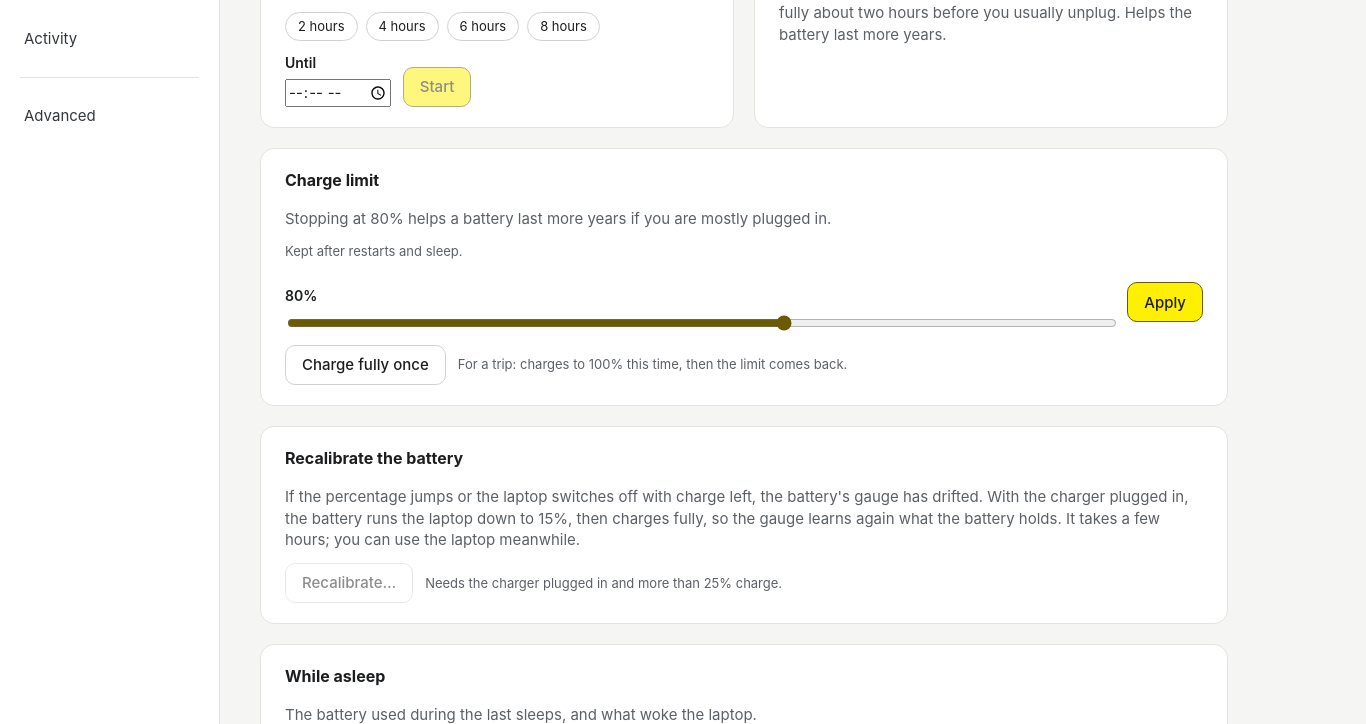
Scenario: the app with the stand-in backend › charges fully once, then puts the limit back
The image size is (1366, 724).
(page scrolled)
What coordinates should you click on to do the following:
click the button "Charge fully once"
I would click on:
 (365, 365)
Its box is [285, 345, 446, 385].
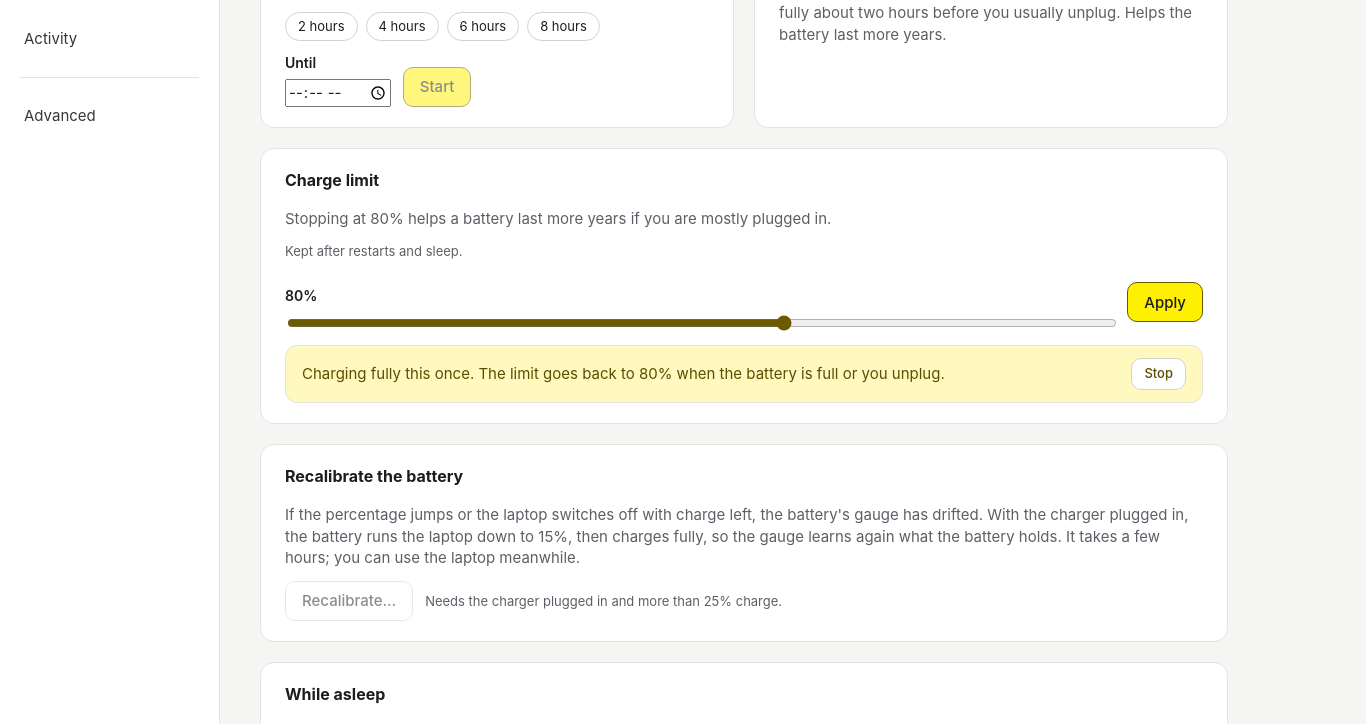
Expected: the text "Charging fully this once. The limit goes back to 80%" is shown, [302, 364, 945, 383]
What coordinates should you click on to do the following:
click the button "Stop"
I would click on:
 (1159, 374)
Its box is [1131, 358, 1186, 390].
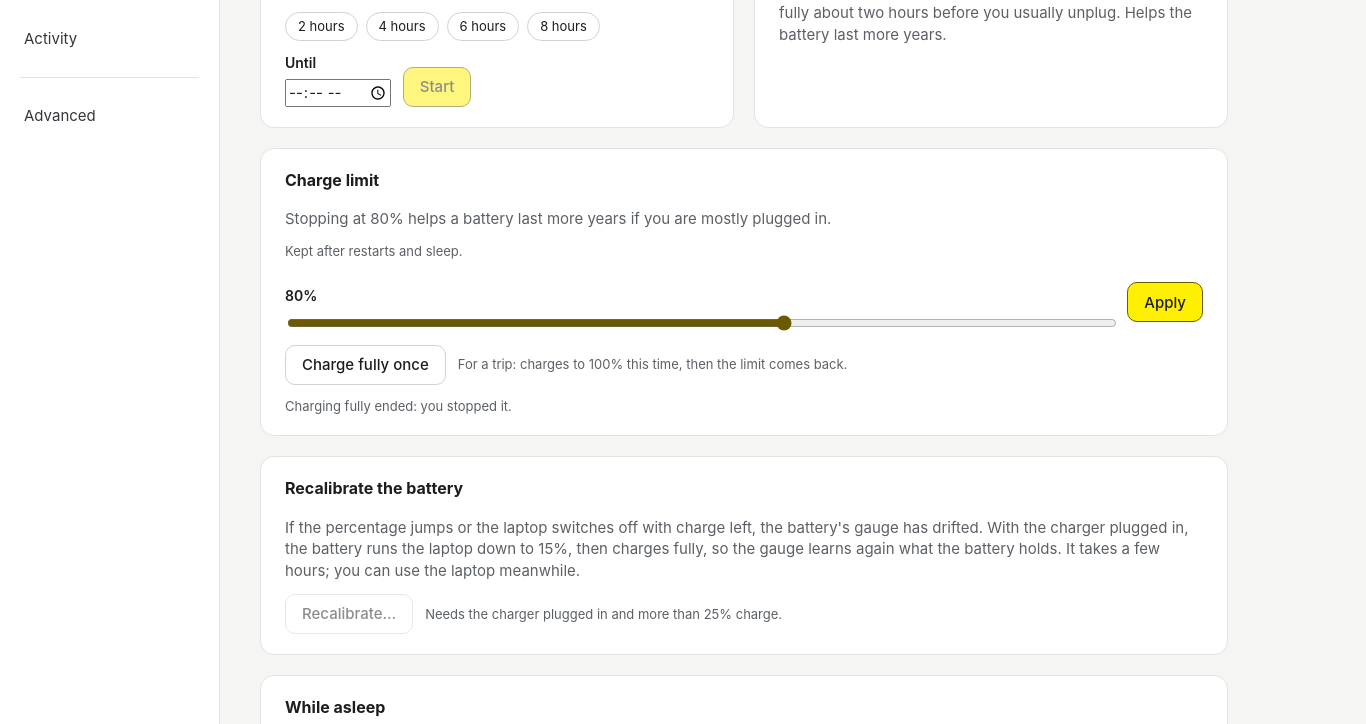
Expected: the text "Charging fully ended: you stopped it." is shown, [285, 398, 512, 414]
